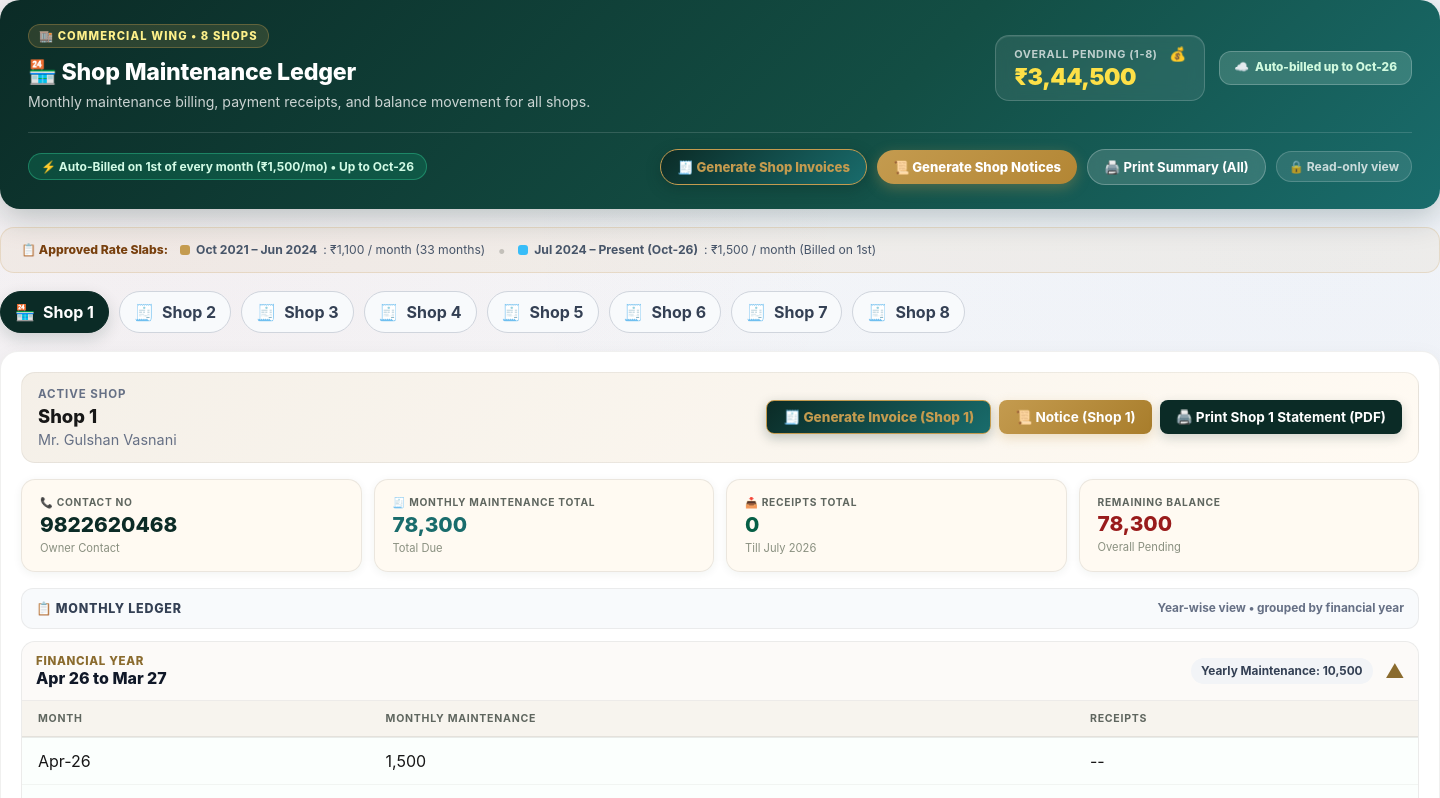
ShopMaintenanceTracker › opens notice generator modal and allows selecting single or all pending shops
Click Generate Shop Notices button
Click the button "📜 Generate Shop Notices": {"x": 977, "y": 167} [877,150,1077,184]
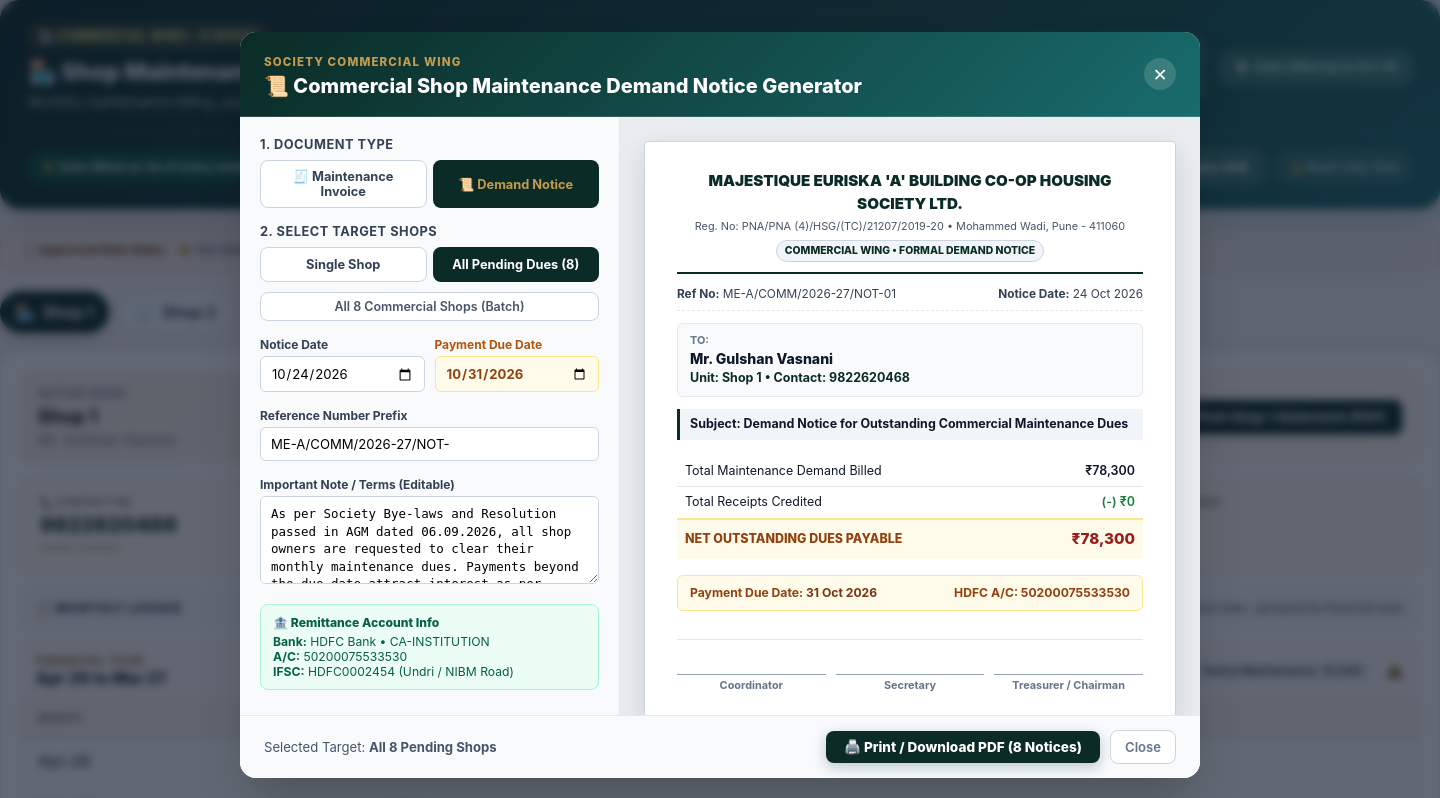
Check: the heading "📜 Commercial Shop Maintenance Demand Notice Generator" is shown, box [264,74,862,98]
Check: the button "All Pending Dues (8)" is shown, box [432,247,599,282]
Check: the text "🏦 Remittance Account Info" is shown, box [273,615,439,630]
Switch to single shop
Click the button "Single Shop": {"x": 343, "y": 265} [260,247,426,282]
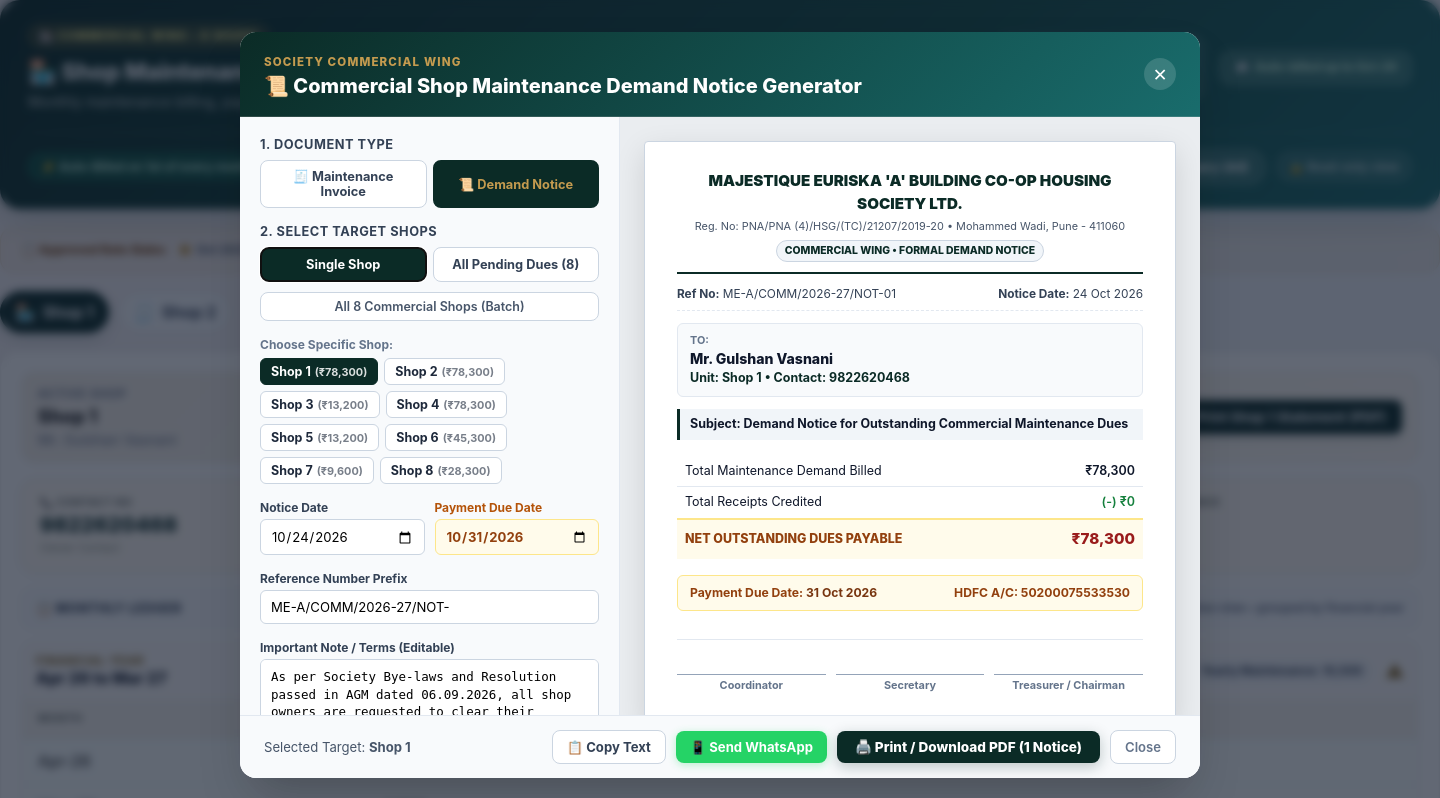
Check: the button "📱 Send WhatsApp" is shown, box [676,731,827,763]
Check: the button "📋 Copy Text" is shown, box [552,730,666,764]
Close modal
Click the button "Close": {"x": 1143, "y": 747} [1110,730,1176,764]
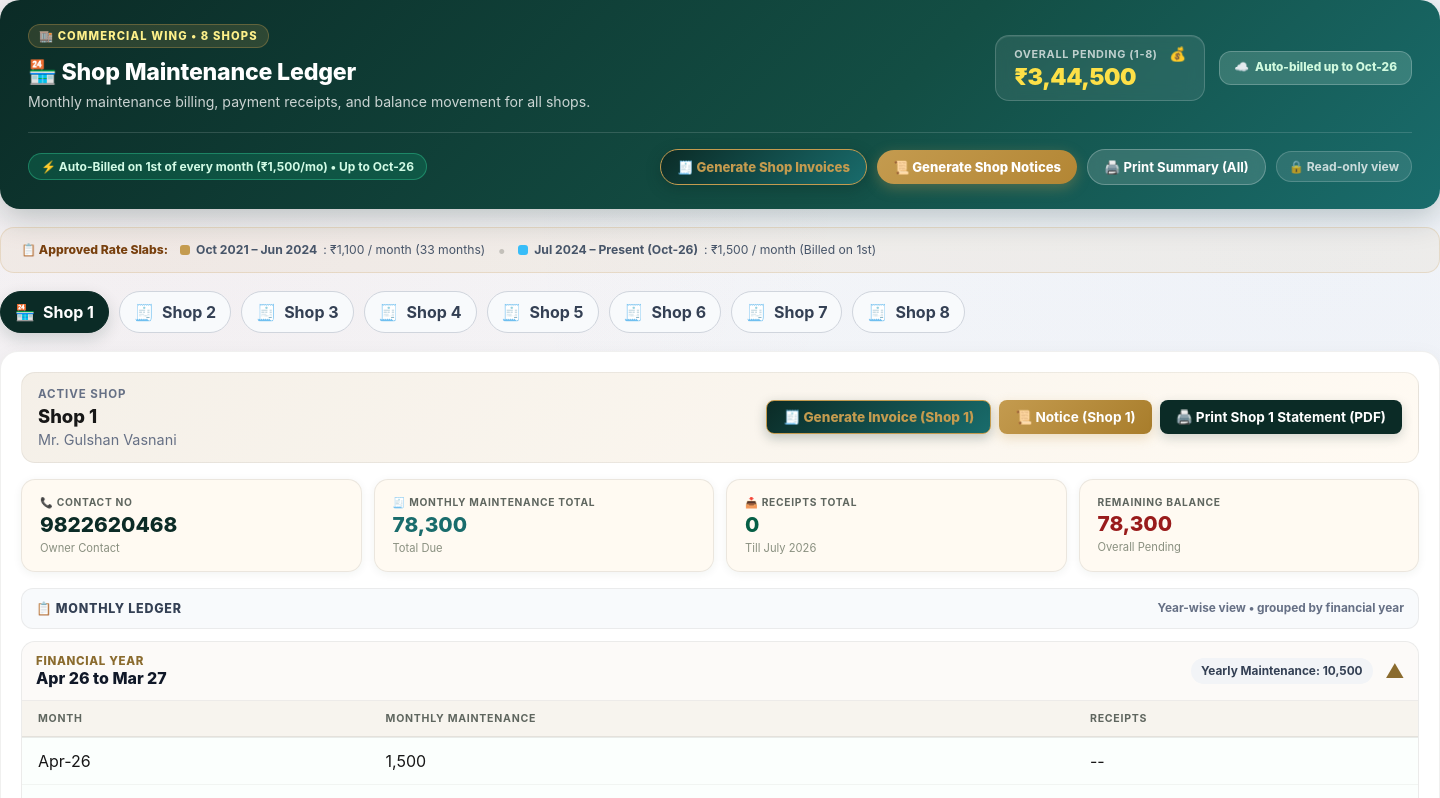
Check: the button "All Pending Dues" is gone
